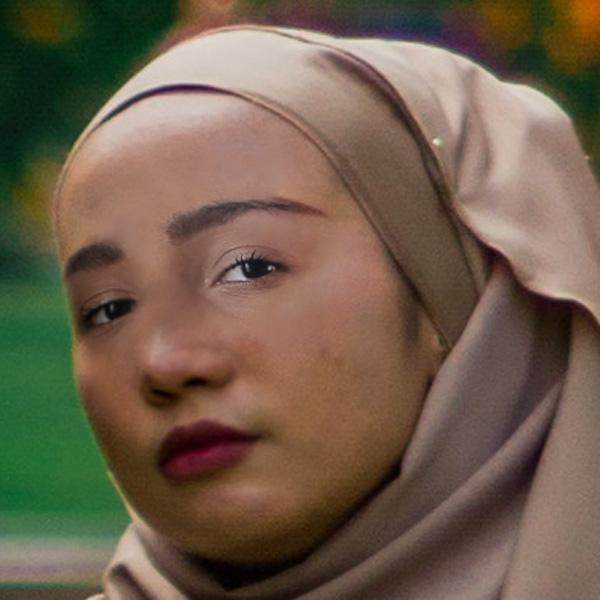Eyes: (196, 234, 302, 307), (75, 271, 155, 346)
